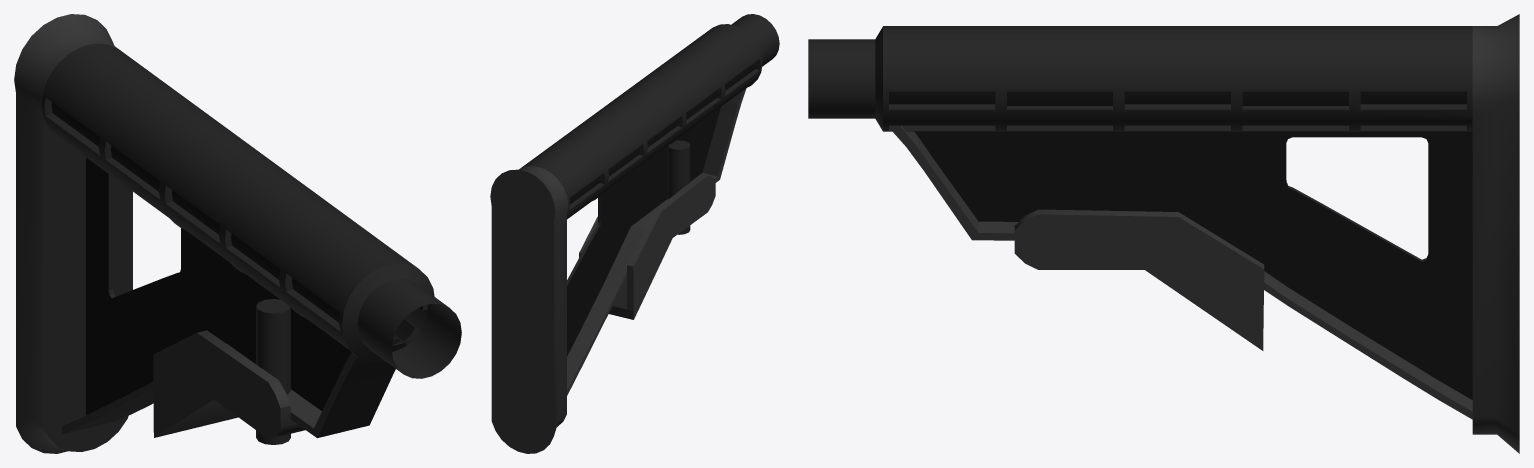
The model's file is stock_1.fbx.
3 renders of one model, left to right at view 1: azimuth 30°, elevation 25°; view 2: azimuth 150°, elevation 25°; view 3: azimuth 270°, elevation 25°, orthographic. The views are drawn at different scales.
Parts seen in each view (by area): view 1: stock_1; view 2: stock_1; view 3: stock_1.
Part boxes in pixels (x1,y1,x2,y2): stock_1: [14, 14, 461, 453]; stock_1: [490, 14, 779, 453]; stock_1: [808, 14, 1519, 453].
Size of the model in its own units: 177 by 735 by 1106.
